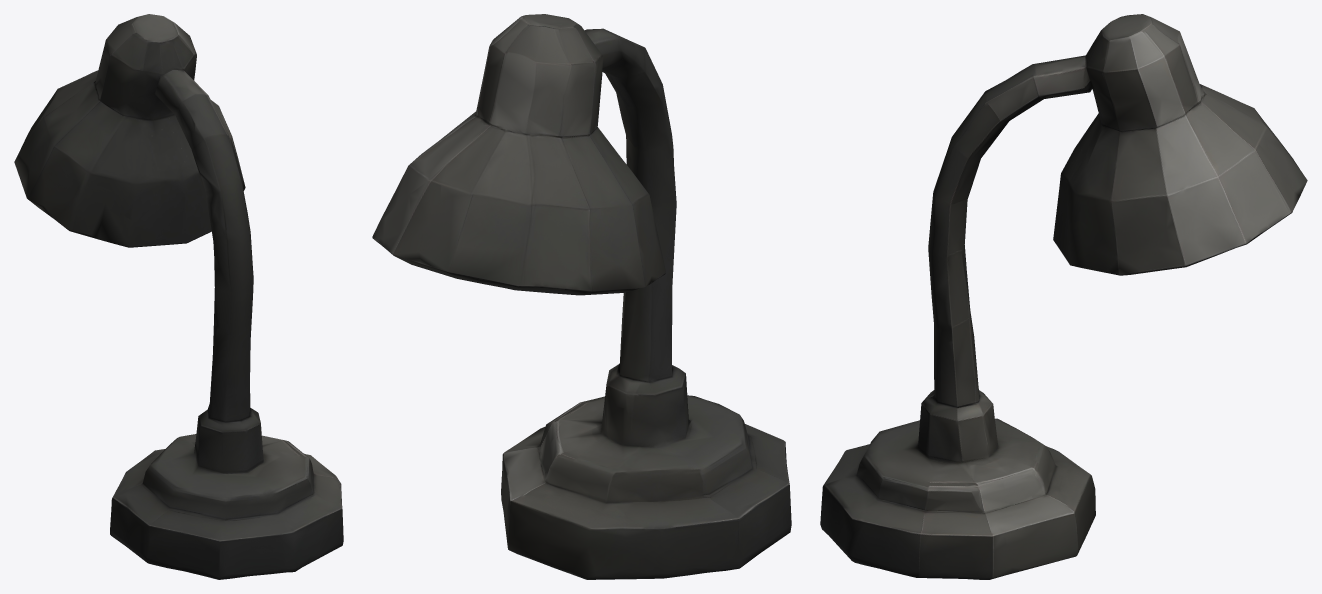
File: low-poly+desk+lamp+3d+model.glb
3 views of the same model, side by side, from view 1: azimuth 30°, elevation 25°; view 2: azimuth 150°, elevation 25°; view 3: azimuth 270°, elevation 25° (orthographic). The views are drawn at different scales.
Parts seen in each view (by area): view 1: tripo_node_83e921b2-e610-4257-8b3d-60d17f23ca02; view 2: tripo_node_83e921b2-e610-4257-8b3d-60d17f23ca02; view 3: tripo_node_83e921b2-e610-4257-8b3d-60d17f23ca02.
Part boxes in pixels (<box>): tripo_node_83e921b2-e610-4257-8b3d-60d17f23ca02: <box>14,14,343,579</box>; tripo_node_83e921b2-e610-4257-8b3d-60d17f23ca02: <box>372,14,791,579</box>; tripo_node_83e921b2-e610-4257-8b3d-60d17f23ca02: <box>820,14,1307,579</box>.
Bounding box in the file's own units: 0.4671 × 1 × 0.8702.
Materials: 1 (1 with a texture image).
